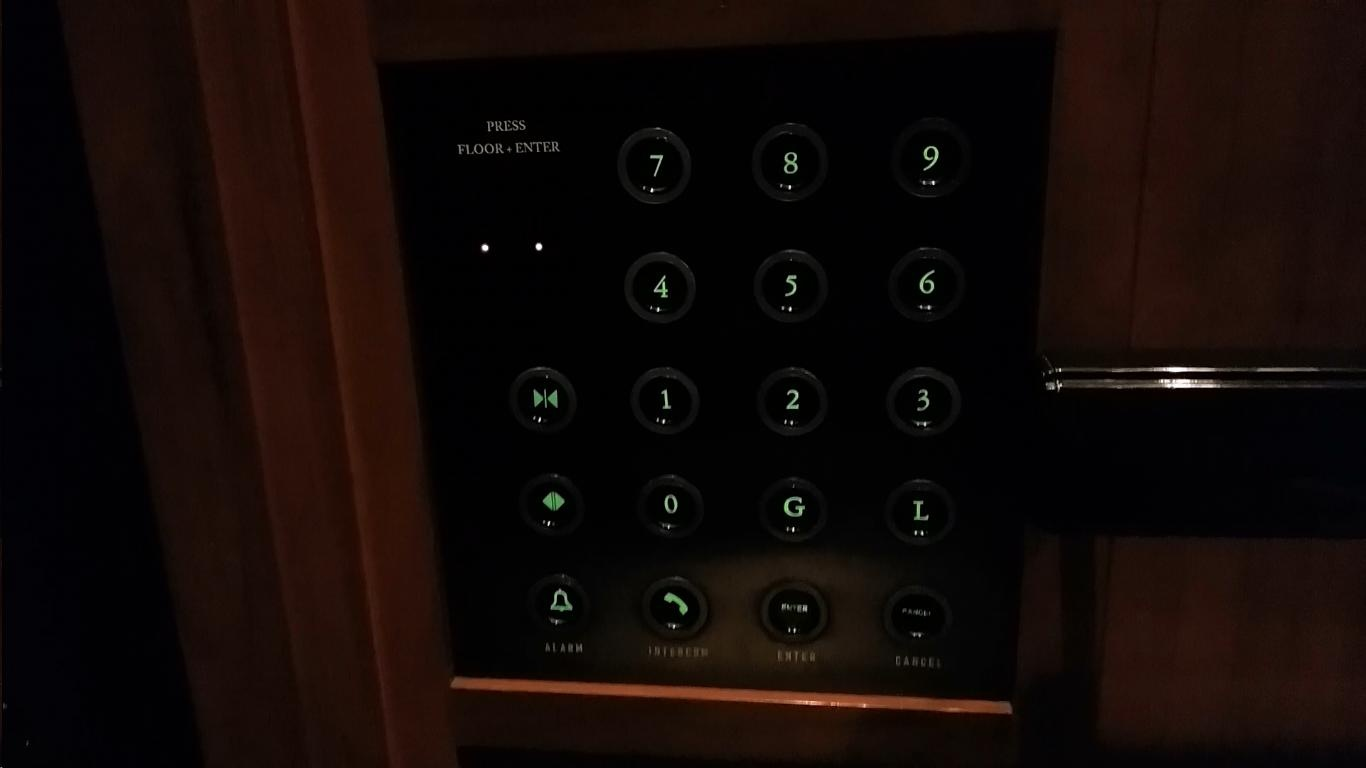0: (634, 468, 708, 542)
1: (627, 365, 702, 435)
2: (755, 365, 831, 439)
3: (885, 366, 963, 439)
4: (619, 247, 701, 326)
5: (750, 243, 832, 330)
6: (882, 243, 967, 329)
7: (613, 125, 697, 210)
8: (751, 125, 832, 205)
9: (888, 123, 967, 202)
G: (753, 469, 830, 546)
L: (883, 474, 958, 547)
alarm: (521, 567, 599, 637)
call: (636, 570, 711, 638)
close: (504, 364, 578, 436)
open: (515, 467, 588, 536)
text: (754, 572, 830, 647), (878, 578, 956, 651)
